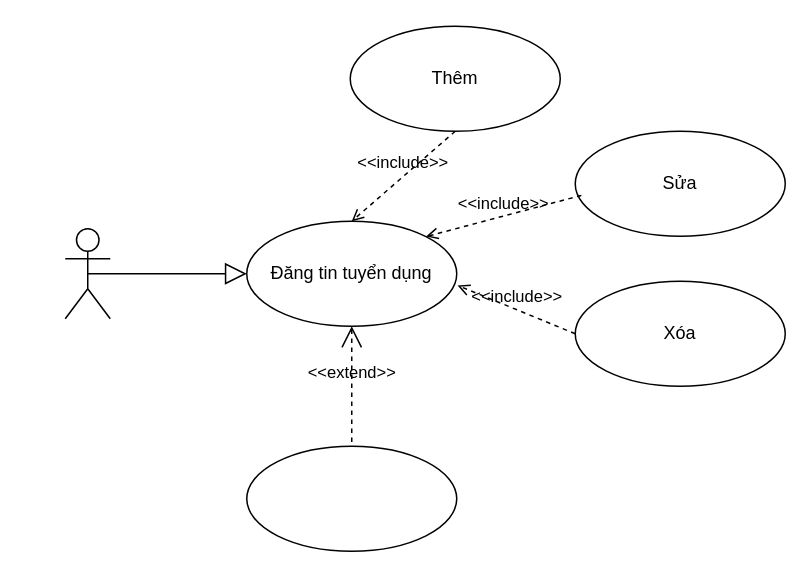
Image size: 812x578. Some labels were removed from this diagram. The centre of each missing label's shape, as x and y in pixels:
"nhà tuyển dụng" goes at point 87,273.
"Xem chi tiết trạng thái bài đăng" goes at point 351,498.
